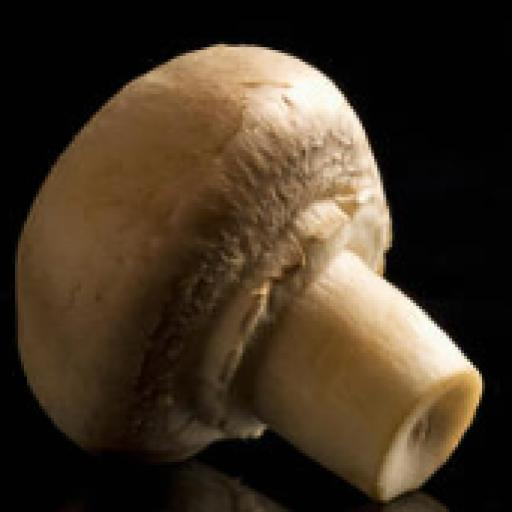mushroom: (14, 42, 482, 499)
